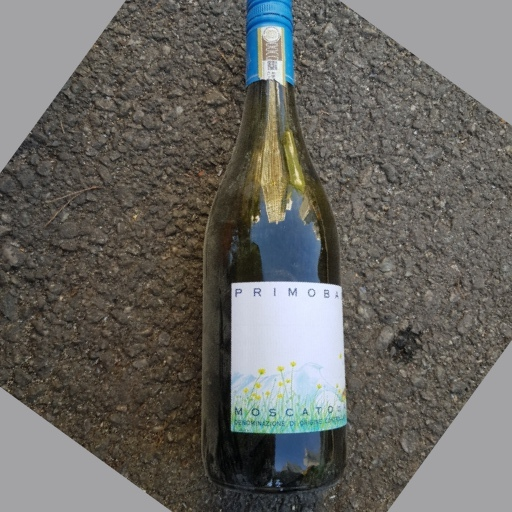Glass_2: (197, 3, 351, 492)
